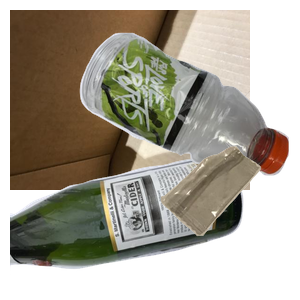cardboard: (10, 10, 250, 190)
glass: (10, 154, 246, 300)
plastic: (77, 30, 300, 198)
trash: (158, 144, 300, 300)
